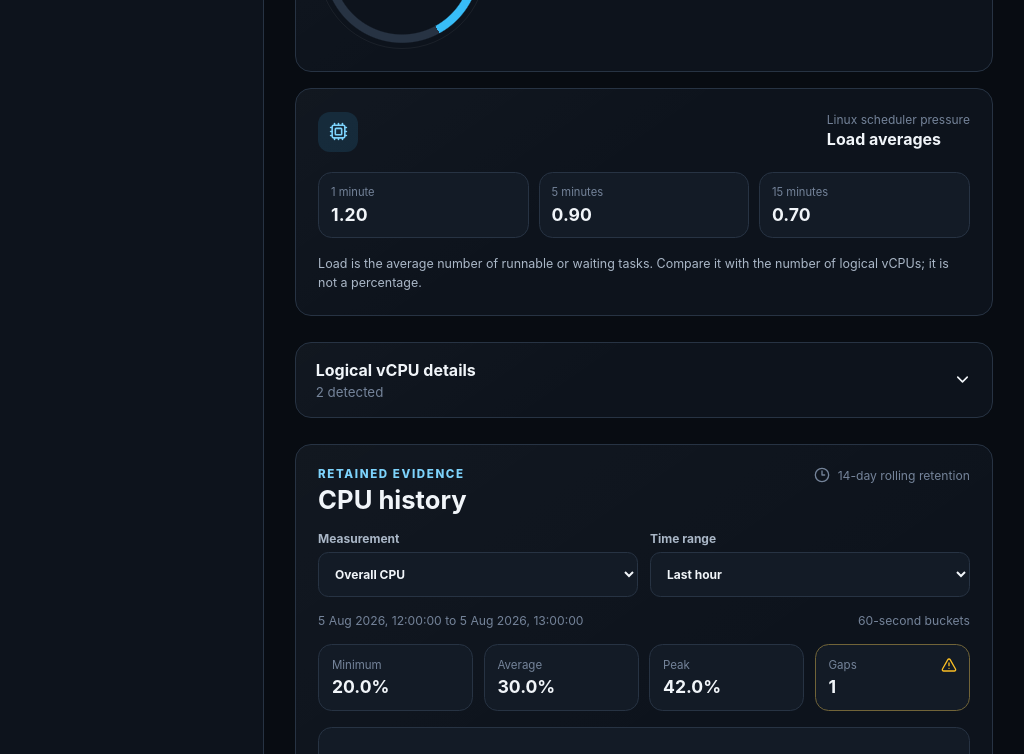
Scenario: CPU page › shows overall CPU first, thresholds, load, dynamic cores, and honest history
(page scrolled)
Expected: the heading "Load averages" is shown, [827,129,941,149]
What coordinates should you click on to do the following:
click the text "Logical vCPU details"
I would click on:
 (396, 370)
Its box is [316,360,476,380].
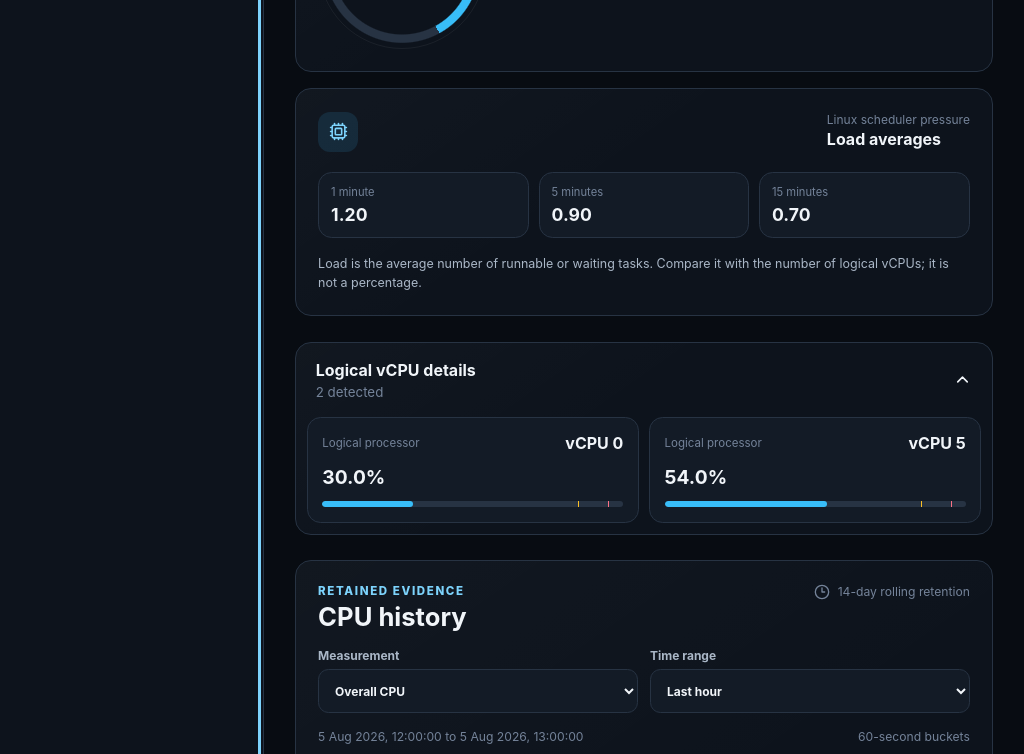
Now the text "vCPU 0" is shown, box [565,432,623,452]
Now the text "vCPU 5" is shown, box [908,432,966,452]
